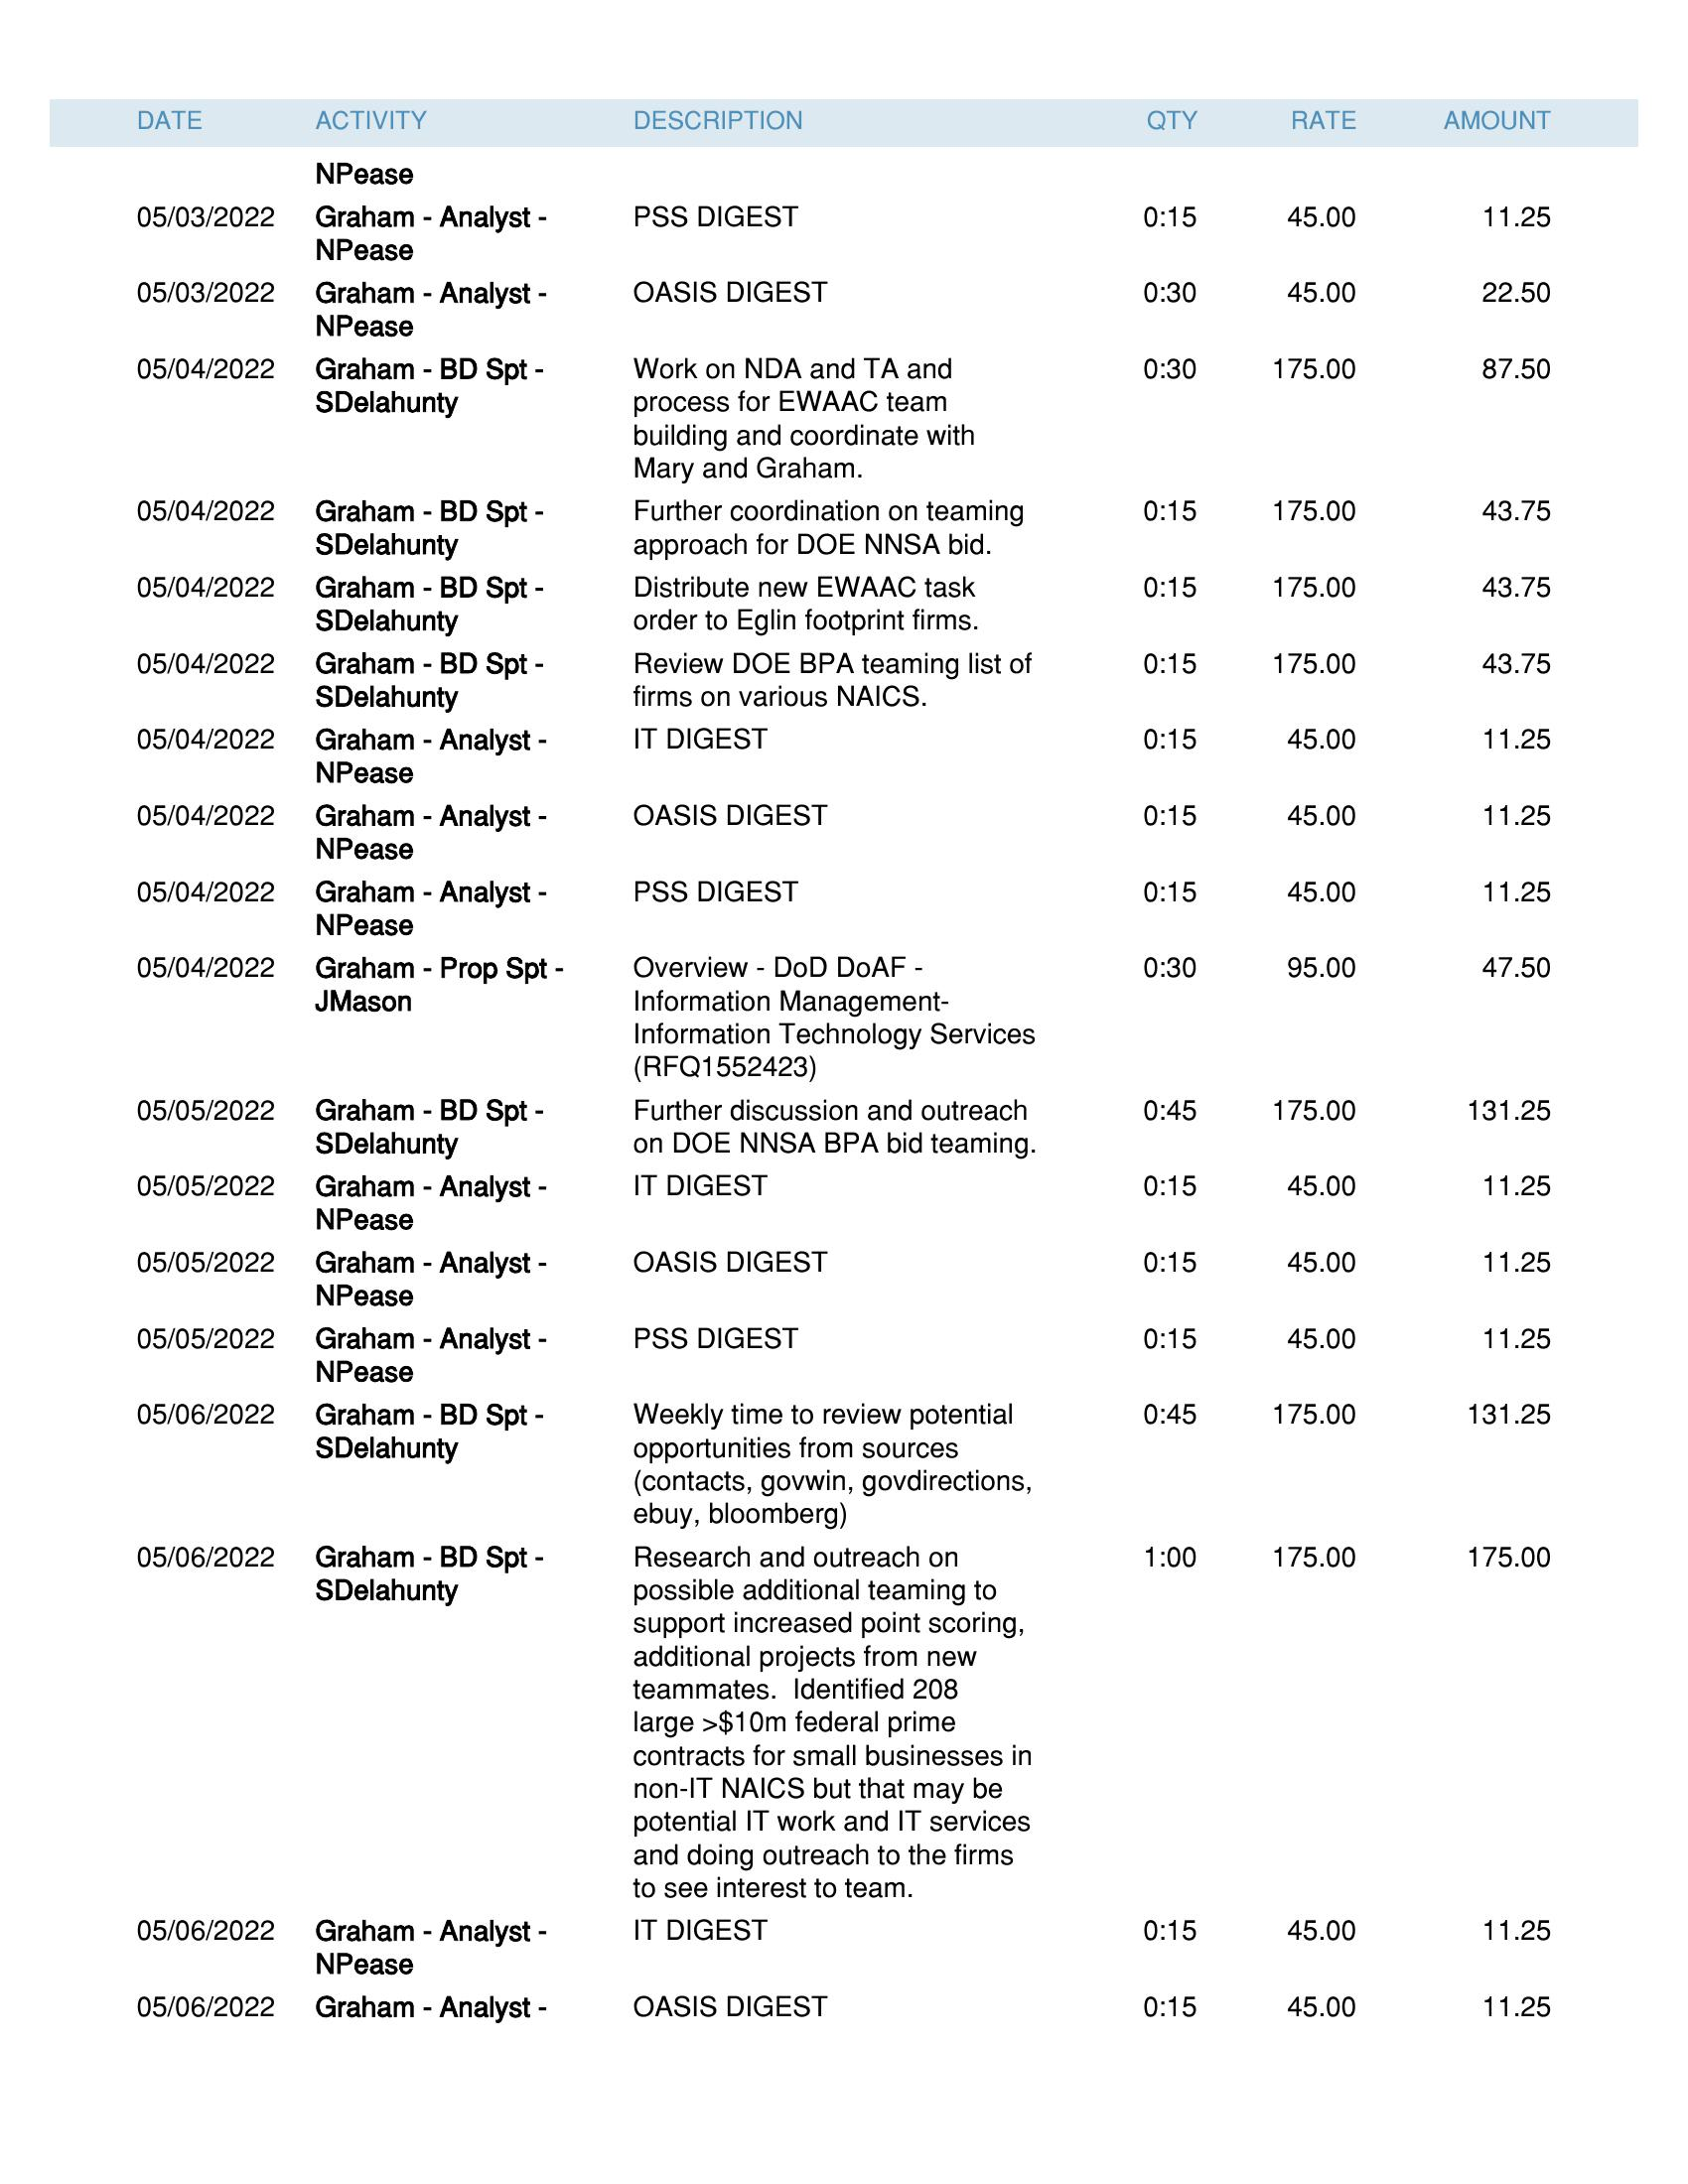table: (32, 78, 1621, 2062)
